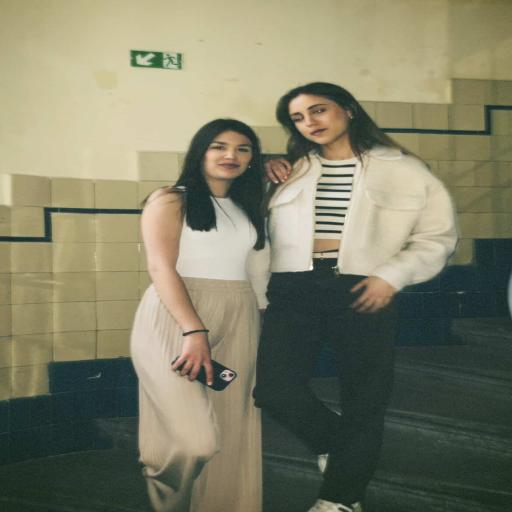masa: (282, 96, 354, 148)
